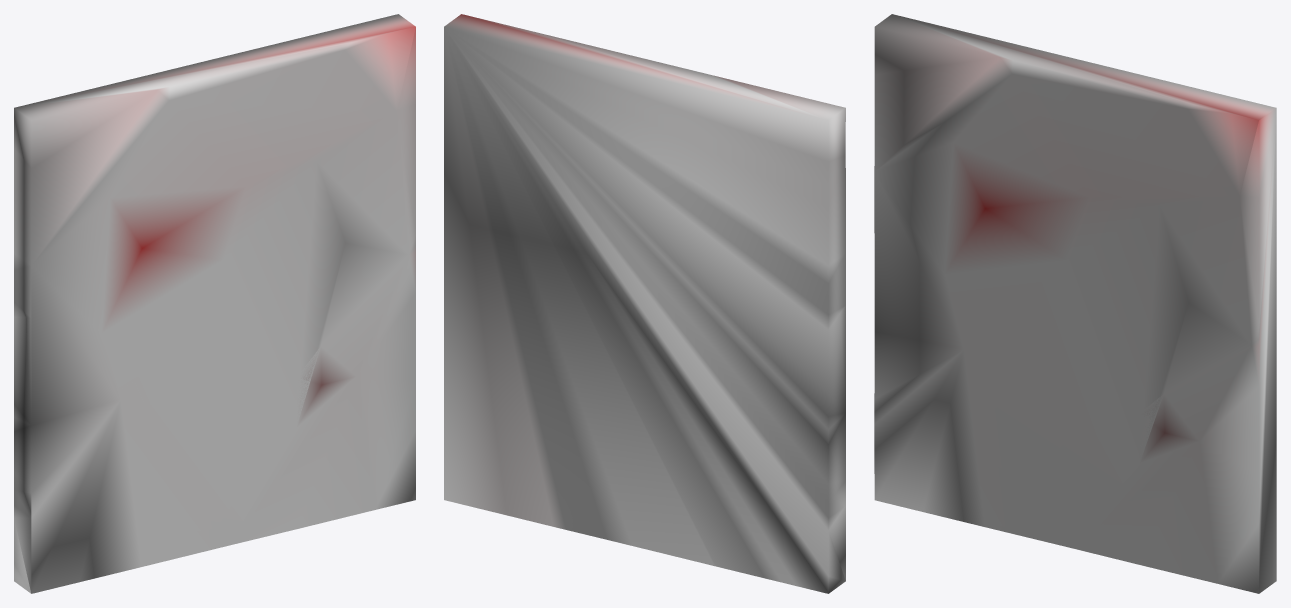
The model's file is SM_FA_Factory_W255_H300.fbx.
3 renders of one model, left to right at view 1: azimuth 30°, elevation 25°; view 2: azimuth 150°, elevation 25°; view 3: azimuth 330°, elevation 25°, orthographic.
Parts seen in each view (by area): view 1: SM_FA_Factory_W255_H300; view 2: SM_FA_Factory_W255_H300; view 3: SM_FA_Factory_W255_H300.
Boxes of the visible parts, left/top/right/bottom form: SM_FA_Factory_W255_H300: left=14, top=14, right=415, bottom=593; SM_FA_Factory_W255_H300: left=444, top=14, right=845, bottom=593; SM_FA_Factory_W255_H300: left=874, top=14, right=1276, bottom=593.
Bounding box in the file's own units: 255 × 20 × 300.
